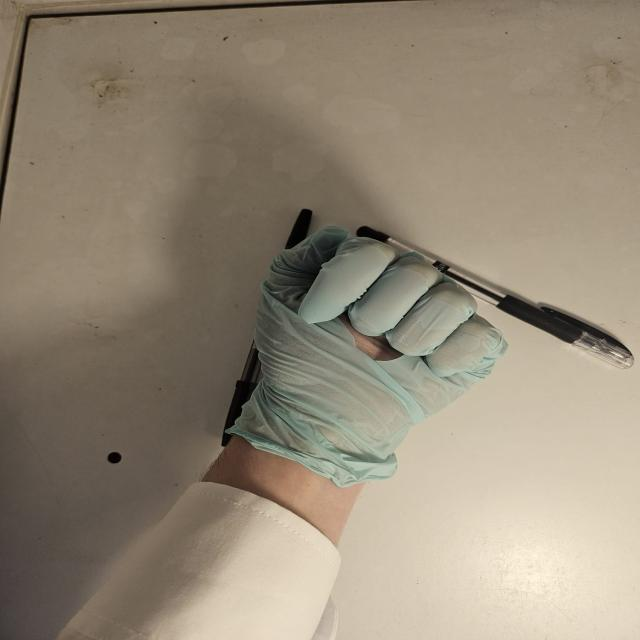gloves_damaged: (216, 220, 508, 487)
